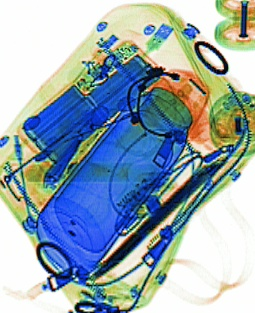powerbank: (16, 36, 167, 167)
